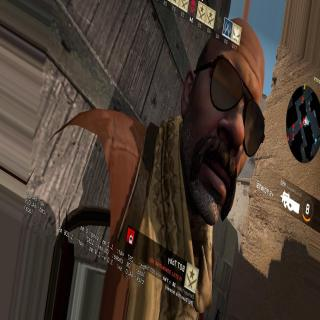T-Body: (64, 10, 268, 320)
T-Head: (179, 14, 265, 231)
